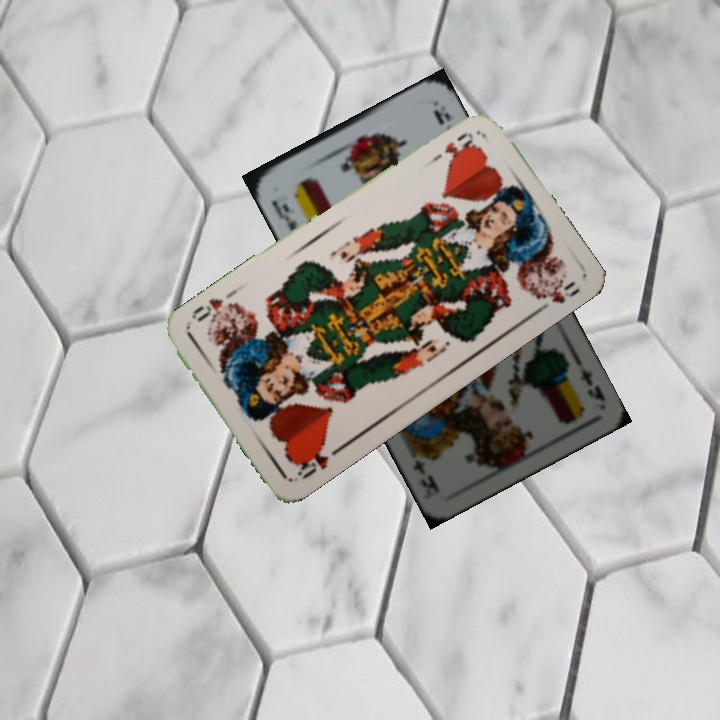EK: (570, 353, 608, 404), (267, 196, 300, 234)
HO: (425, 127, 477, 167), (291, 443, 344, 482)
